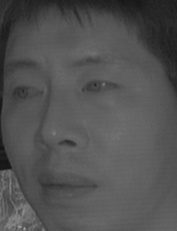eye: (81, 74, 120, 100), (5, 83, 45, 107)
mouth: (37, 165, 100, 203)
